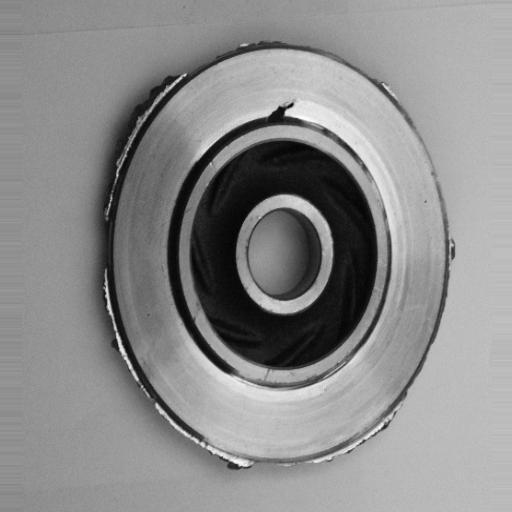casting_with_burr: (98, 38, 460, 473)
crack: (249, 88, 311, 133)
